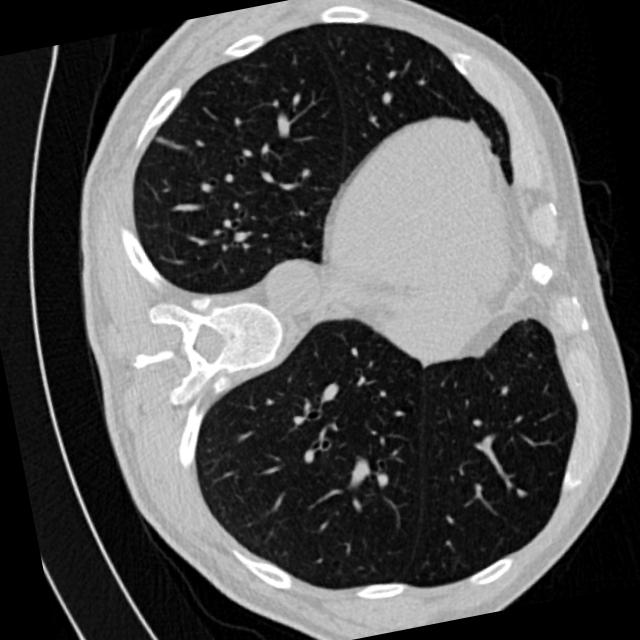nodule: (509, 482, 535, 508)
